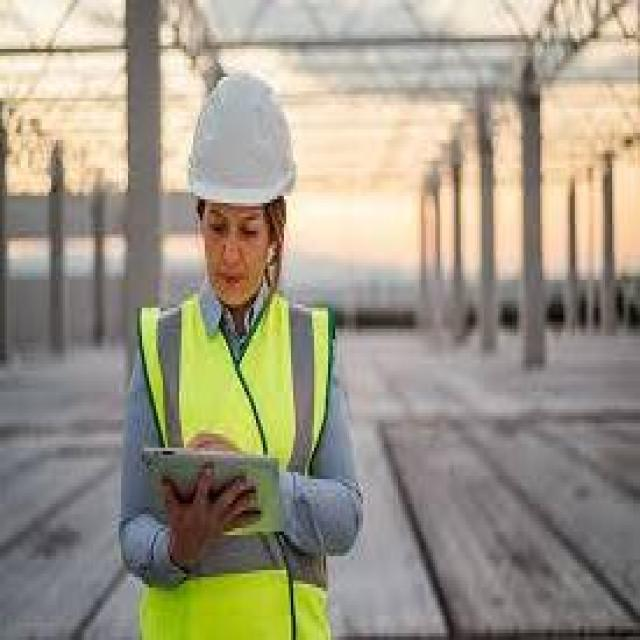Reflective-Jacket: (123, 287, 344, 633)
Safety-Helmet: (172, 66, 307, 220)
